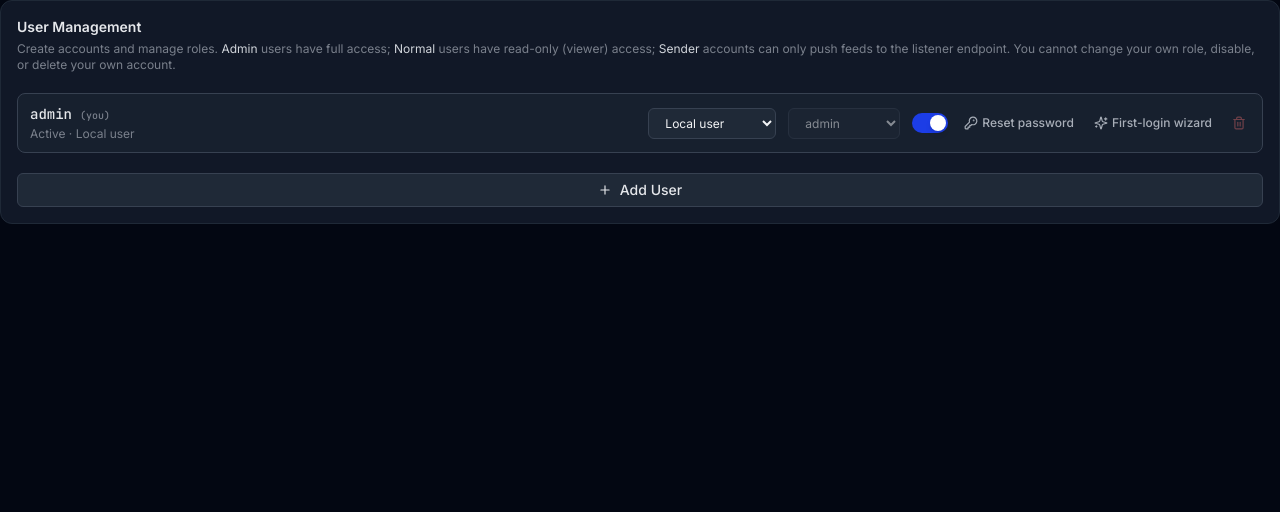
Test: UserManagementTab organizations › create form: selecting an org reveals the email-username checkbox and previews the full email
This screenshot has width=1280, height=512.
Click the button "Add User": x=640, y=190 left=17, top=173, right=1263, bottom=207
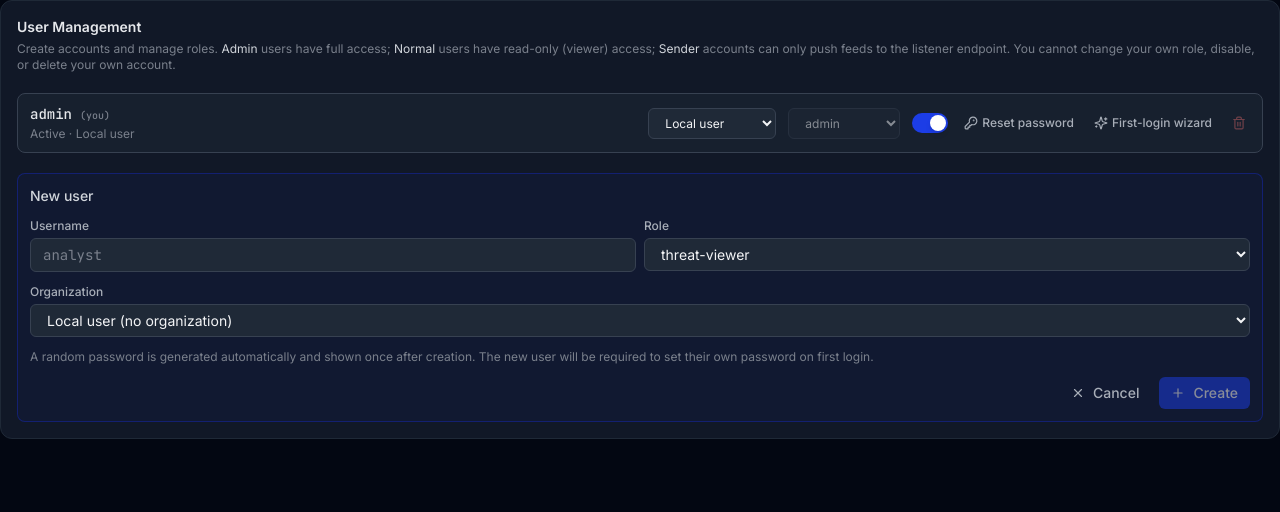
In the field labelled "Username": x=333, y=255 left=30, top=238, right=636, bottom=272, type "bob"
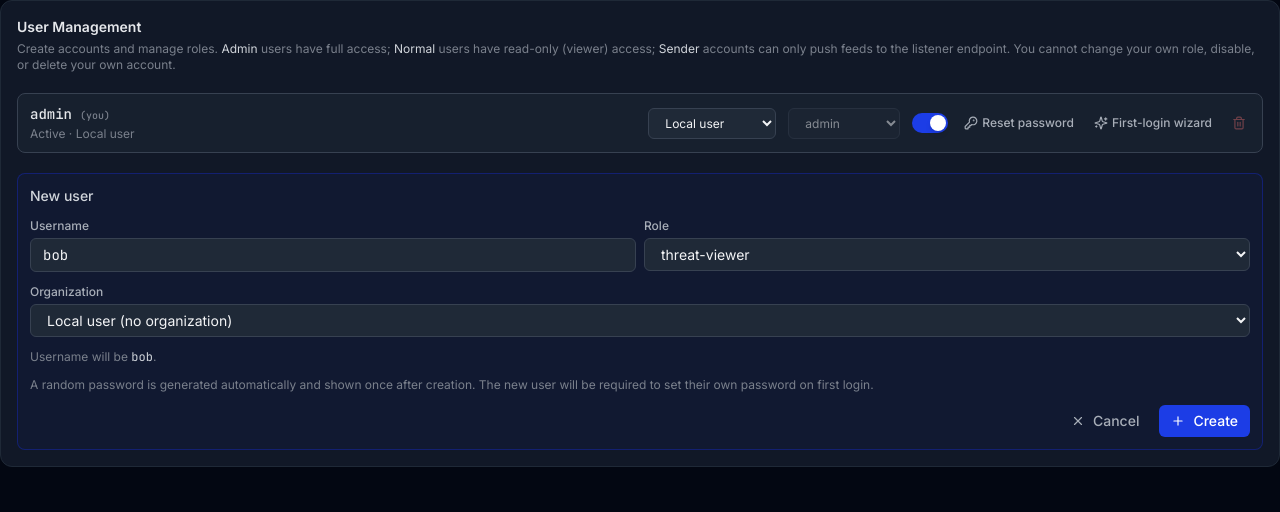
Select "Acme (acme.com)" in the dropdown labelled "Organization": x=640, y=320 left=30, top=304, right=1250, bottom=337
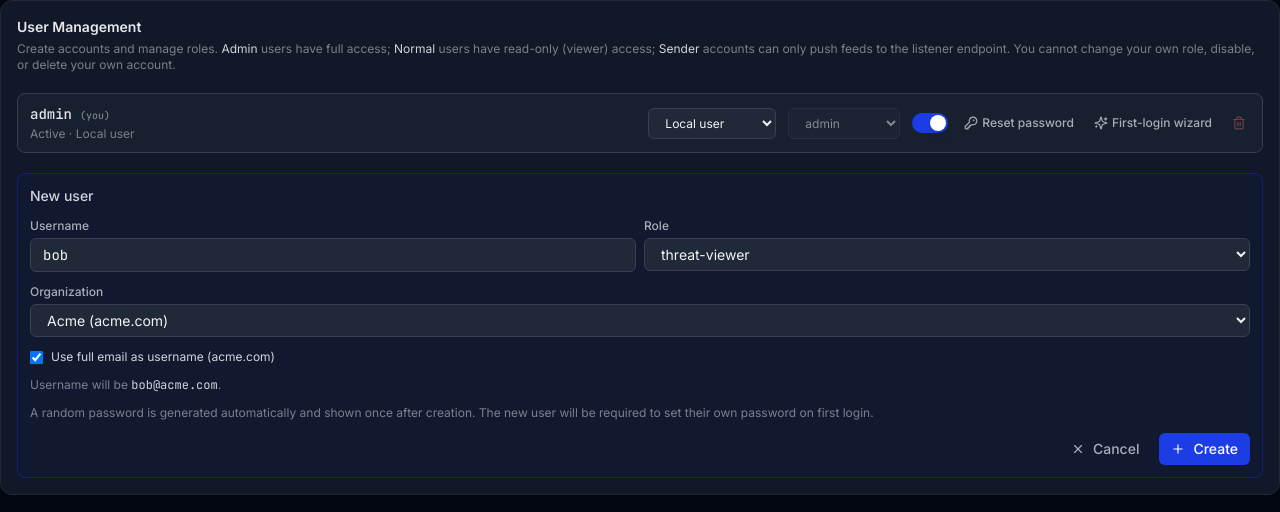
Check: the checkbox labelled "Use full email as username (acme.com)" is checked, box left=30, top=350, right=43, bottom=364
Check: the text "bob@acme.com" is shown, box left=131, top=377, right=218, bottom=393
